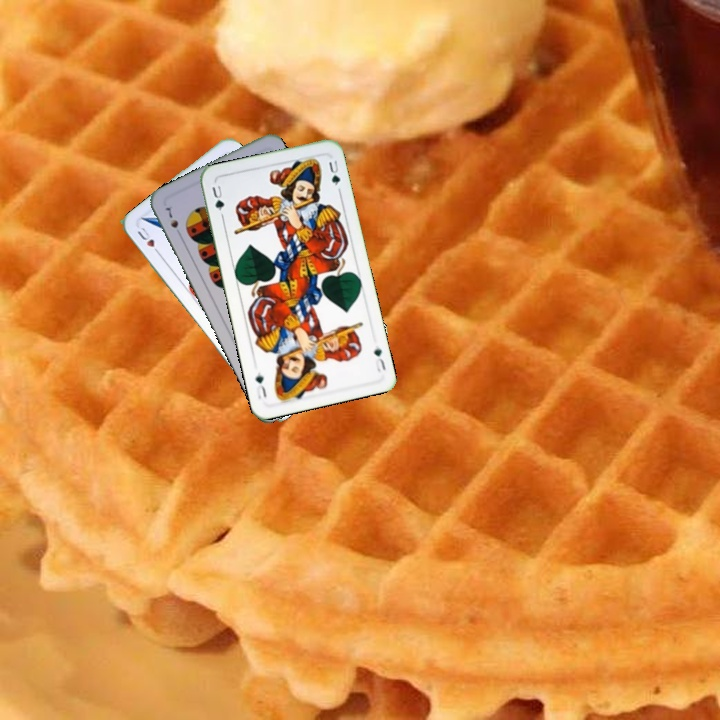GU: (208, 180, 227, 219), (370, 345, 388, 376)
HU: (133, 223, 163, 258)
S7: (162, 203, 184, 239)
